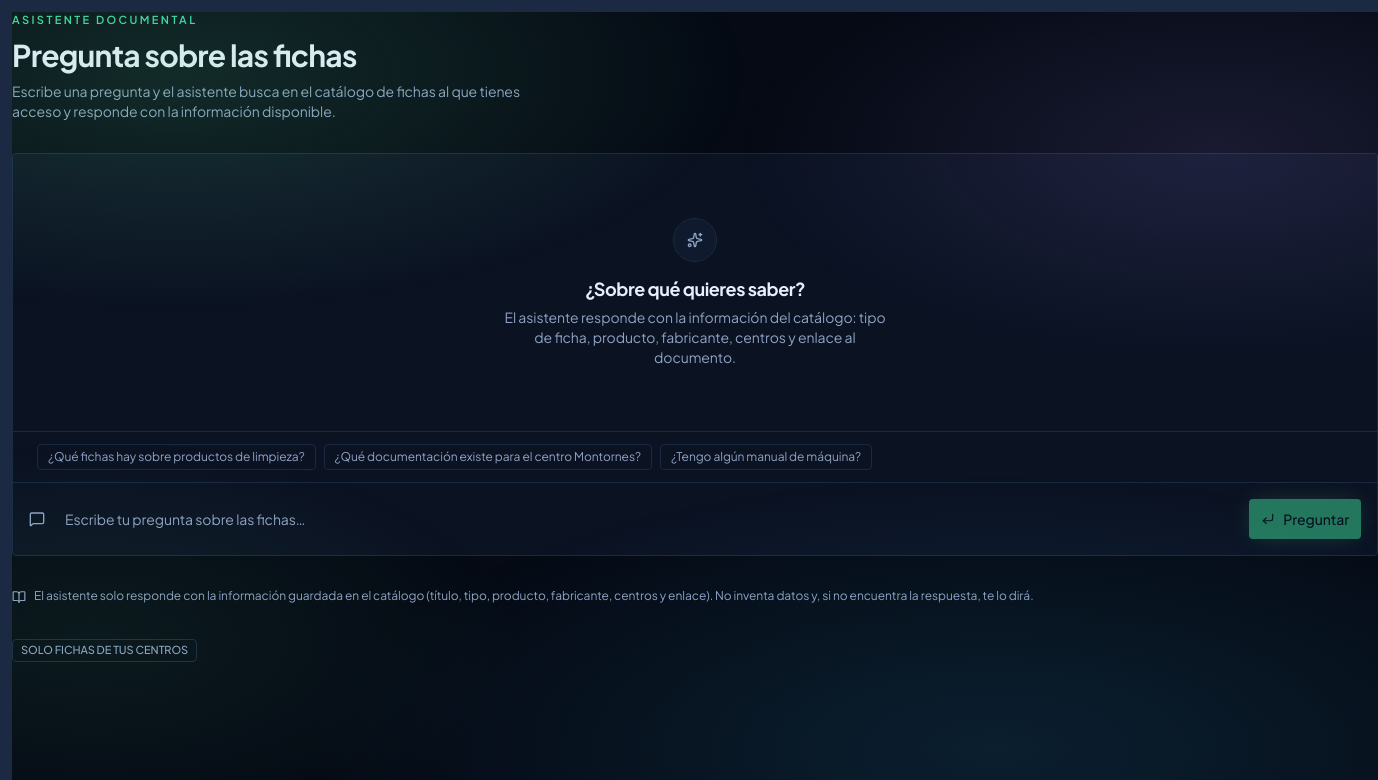
it: AsistenteSection › muestra la respuesta y la ficha de origen
The image size is (1378, 780).
Click the button "¿Tengo algún manual de máquina?" at (766, 457), box [660,444,872,470]
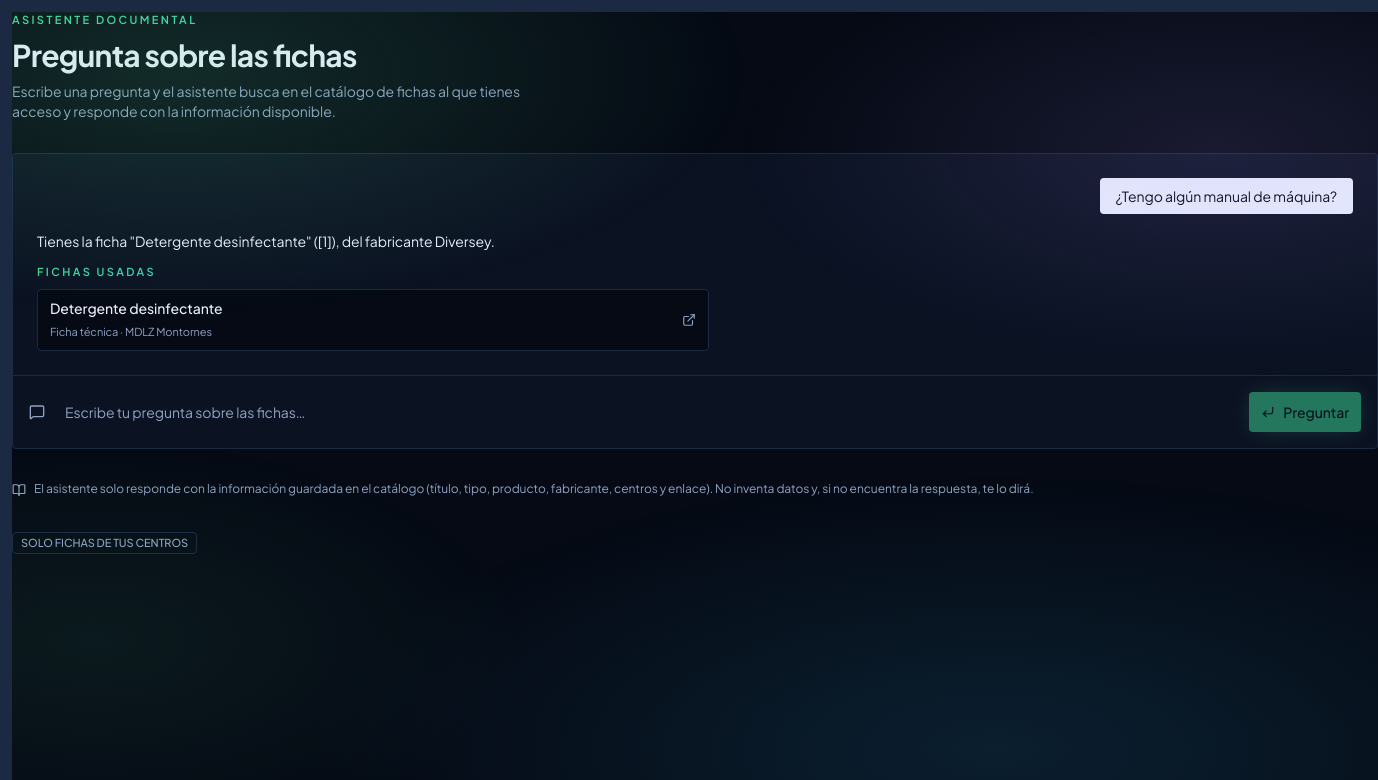
Expected: the text "del fabricante Diversey" is shown, [37,232,495,250]
Expected: the text "Ficha técnica · MDLZ Montornes" is shown, [50,325,212,338]
